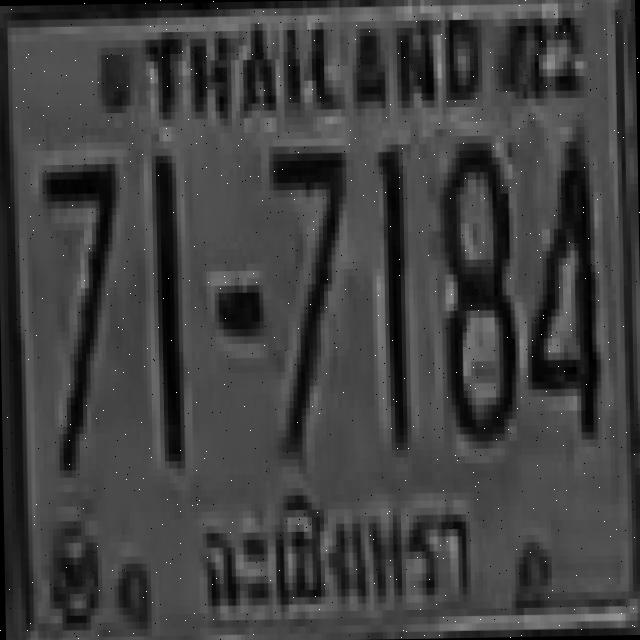1: (150, 148, 180, 461), (378, 140, 408, 446)
4: (524, 134, 598, 433)
7: (40, 156, 118, 470), (268, 138, 346, 452)
8: (436, 136, 514, 434)
Chachoengsao: (194, 489, 493, 624)
